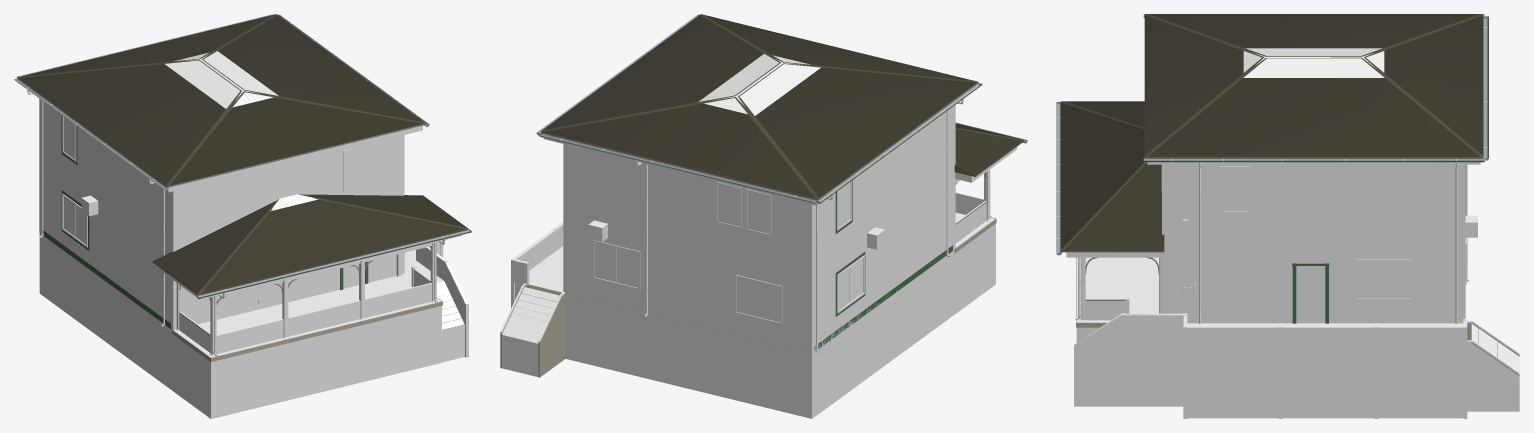
Rendered from eca_bld_fv_house_e.DAE.
3 renders of one model, left to right at view 1: azimuth 30°, elevation 25°; view 2: azimuth 150°, elevation 25°; view 3: azimuth 270°, elevation 25°, orthographic. The views are drawn at different scales.
Parts seen in each view (by area): view 1: Colmesh-1, eca_bld_fv_house_e350, eca_bld_fv_house_e120; view 2: Colmesh-1, eca_bld_fv_house_e350, eca_bld_fv_house_e120; view 3: Colmesh-1, eca_bld_fv_house_e350.
Part boxes in pixels (x1,y1,x2,y2): Colmesh-1: [39, 51, 468, 418]; eca_bld_fv_house_e350: [14, 14, 471, 418]; eca_bld_fv_house_e120: [63, 116, 86, 244]; Colmesh-1: [502, 54, 1017, 418]; eca_bld_fv_house_e350: [500, 14, 1027, 418]; eca_bld_fv_house_e120: [837, 182, 863, 312]; Colmesh-1: [1066, 48, 1519, 418]; eca_bld_fv_house_e350: [1056, 14, 1519, 418].
Bounding box in the file's own units: 14.11 × 16.62 × 10.75.
